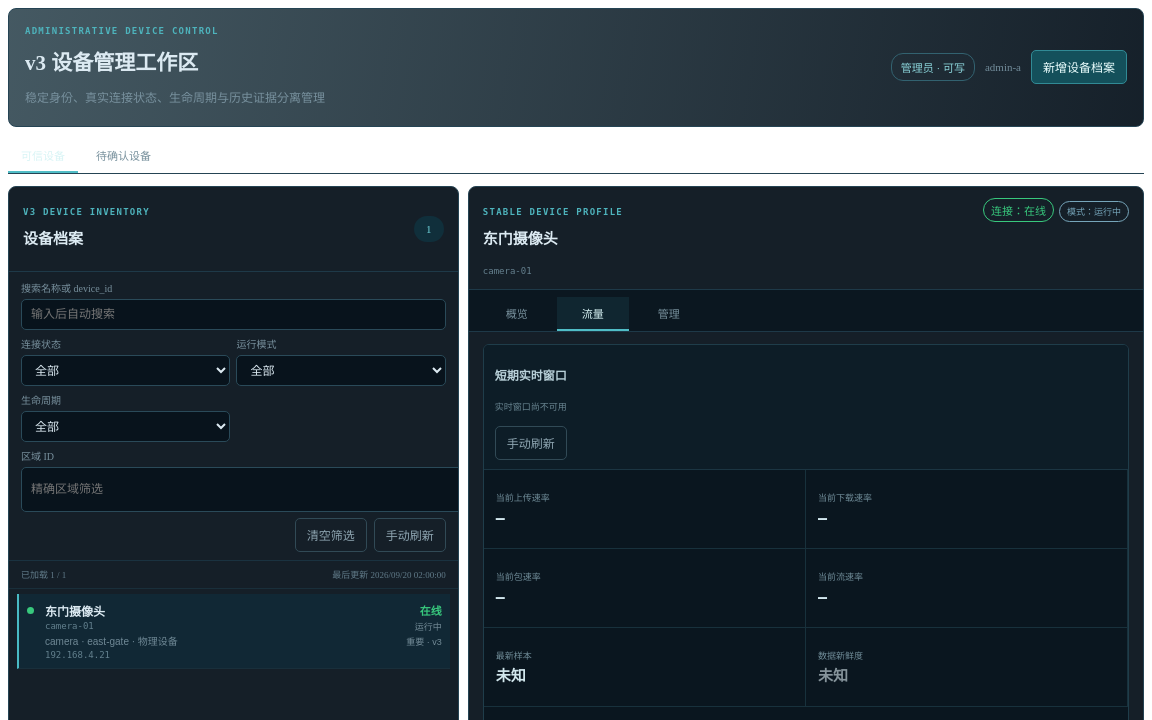
Test: DevicesPage permissions and server-backed interactions › keeps local edits after a profile version conflict and never retries automatically
Click the tab "管理": (669, 314) x1=633 y1=297 x2=705 y2=331
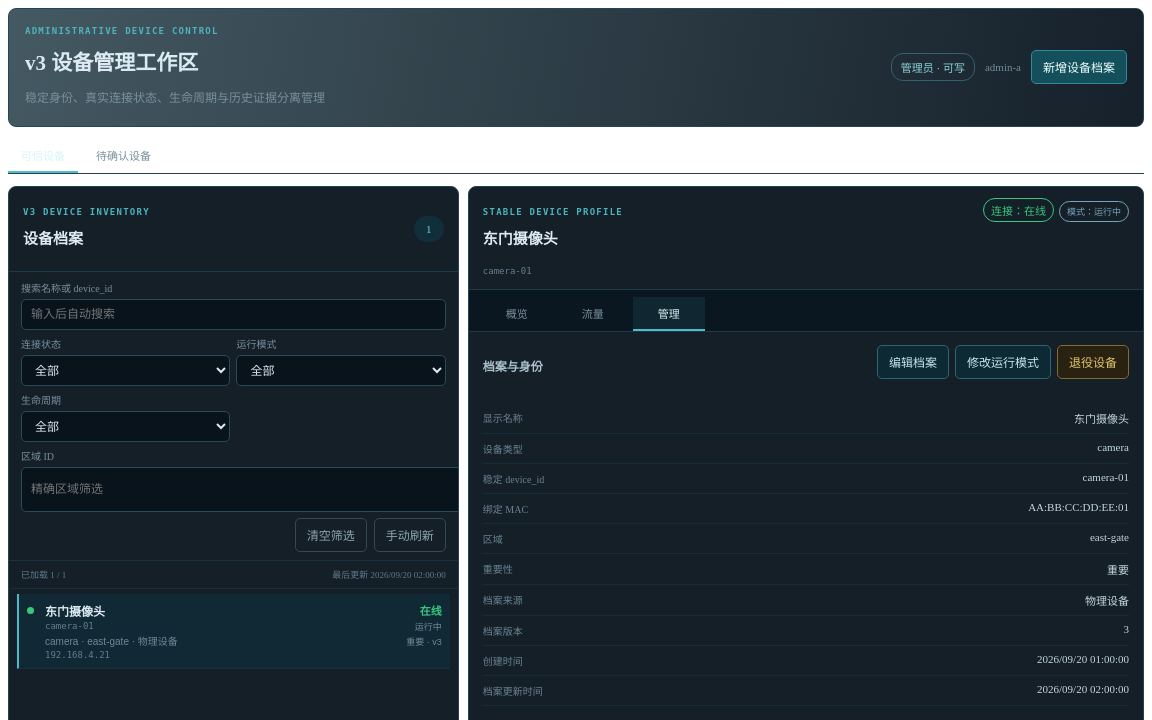
Click the button "编辑档案": (913, 362) x1=877 y1=345 x2=949 y2=379
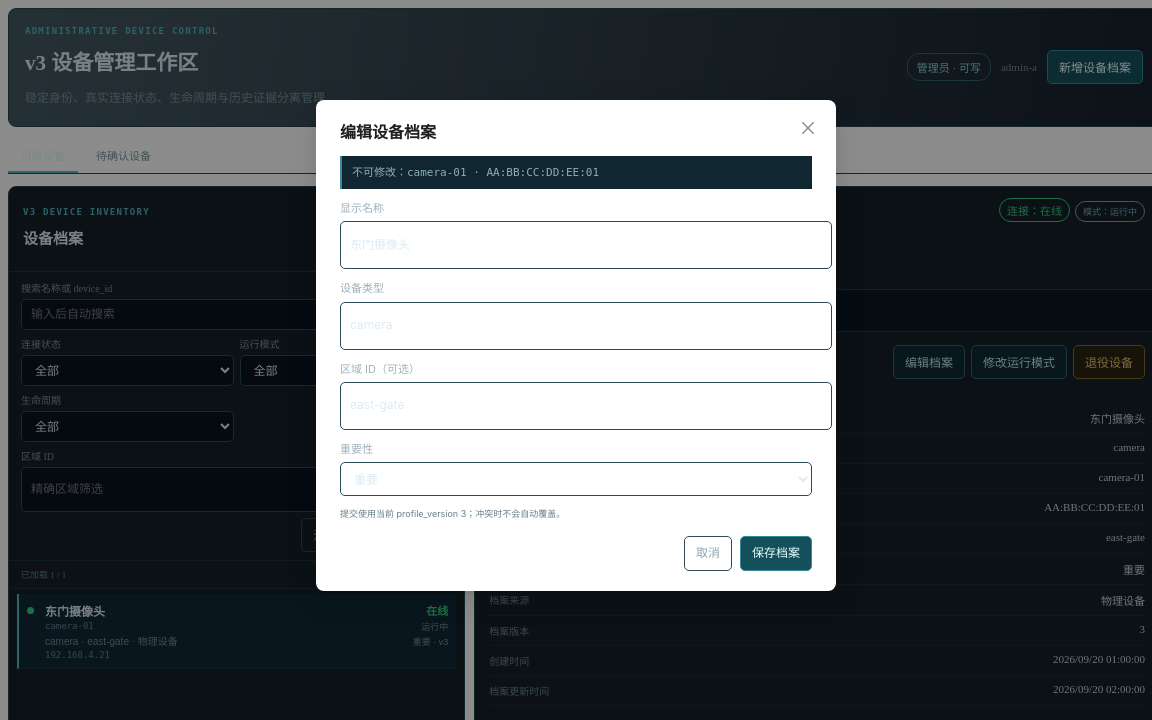
Replace the text in the field labelled "显示名称" with "未提交的新名称": (586, 245) x1=340 y1=221 x2=832 y2=269
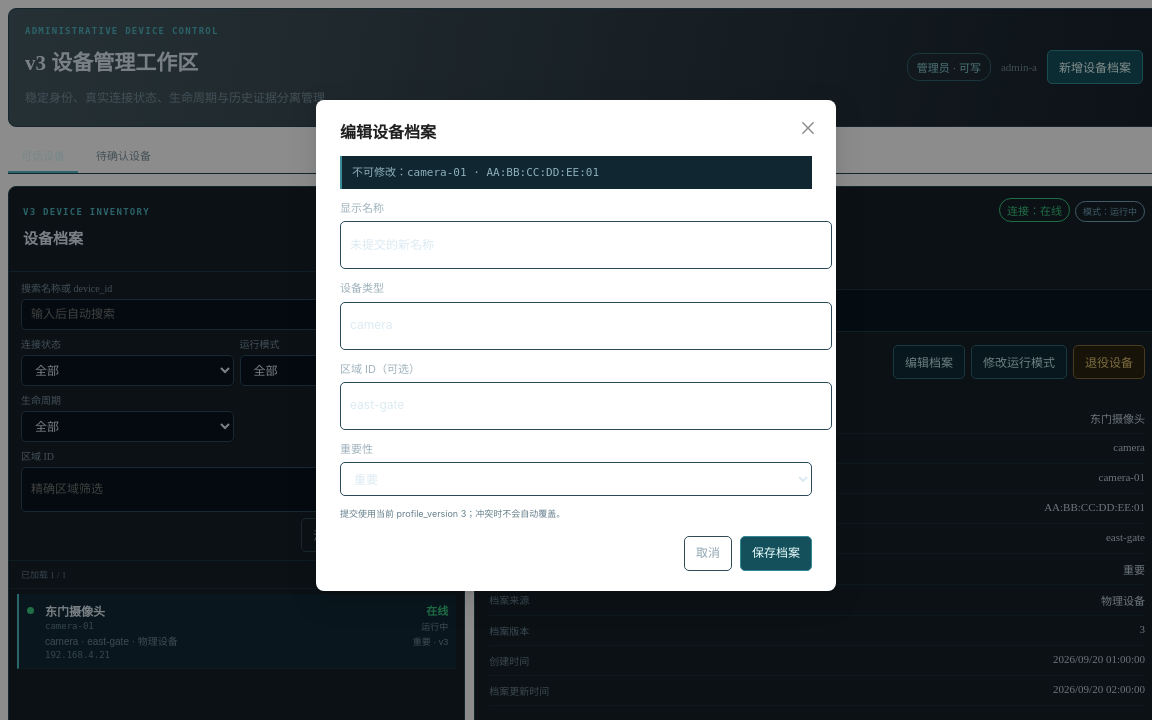
Click the button "保存档案": (776, 554) x1=740 y1=536 x2=812 y2=571
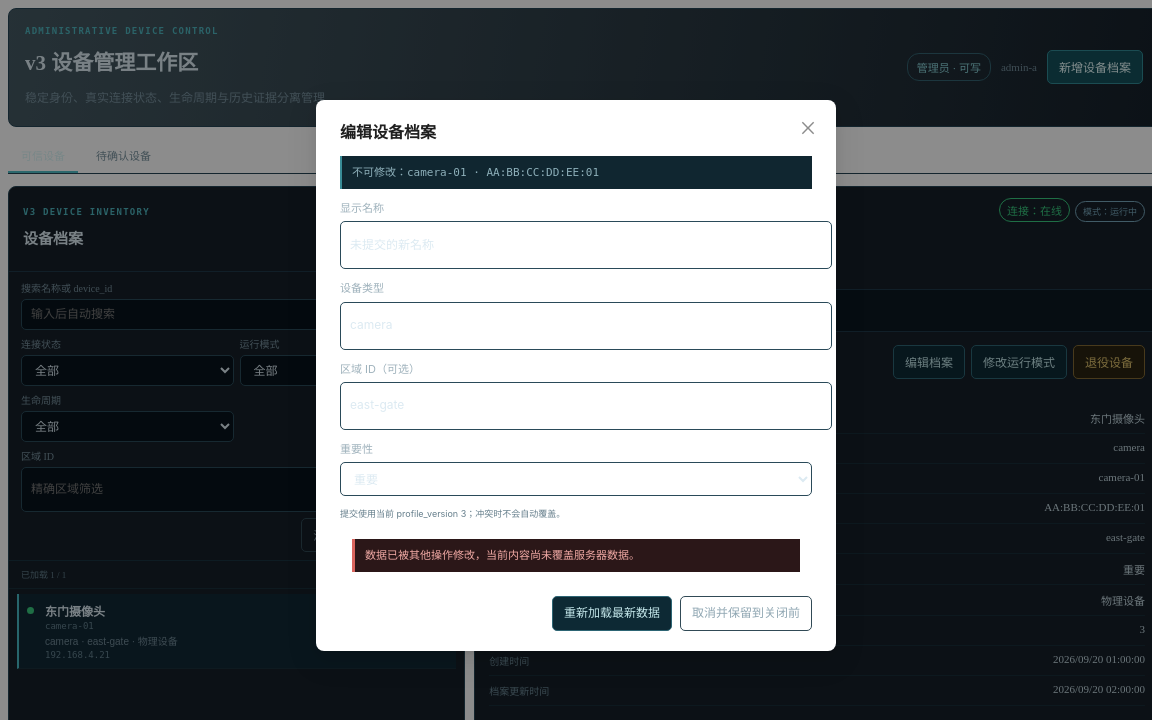
Result: the text "数据已被其他操作修改，当前内容尚未覆盖服务器数据。" is shown at x1=352 y1=539 x2=800 y2=572
Result: the button "重新加载最新数据" is shown at x1=552 y1=596 x2=672 y2=630
